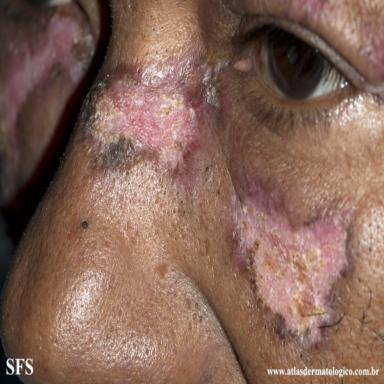Lupus-Erythematosus-Chronicus-Discoides: (227, 180, 357, 350), (76, 55, 228, 178)
